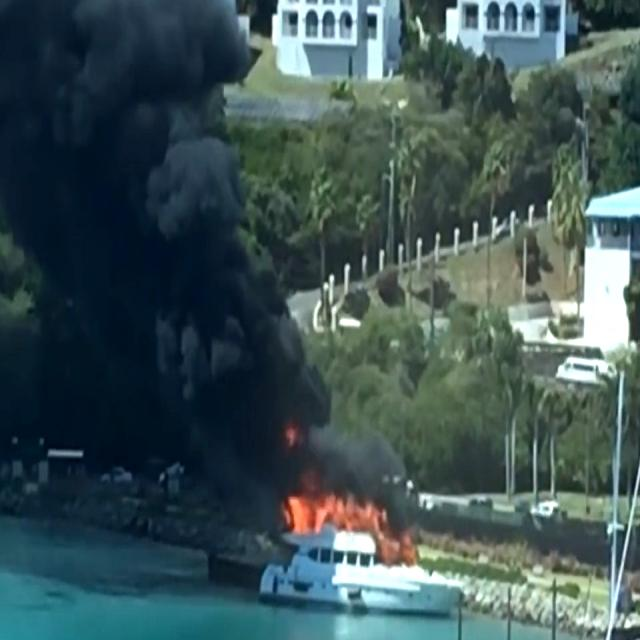fire: (290, 502, 406, 550)
smoke: (33, 0, 247, 459), (0, 0, 223, 206)
